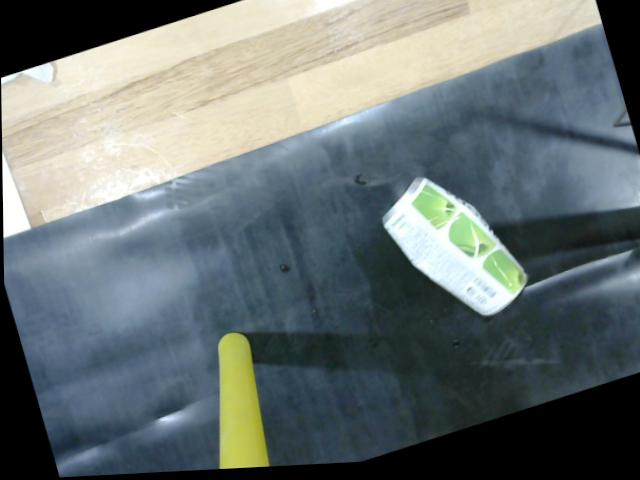can: (377, 174, 533, 331)
